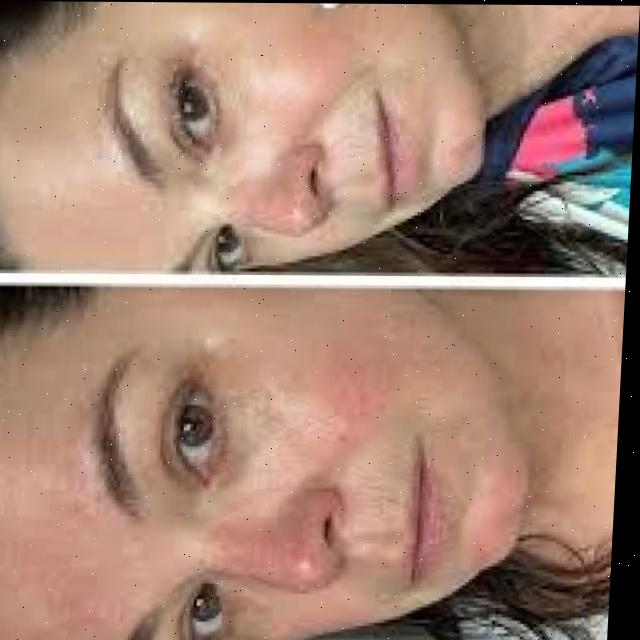Rosacea: (269, 337, 411, 478), (10, 507, 105, 636), (208, 527, 302, 590)
